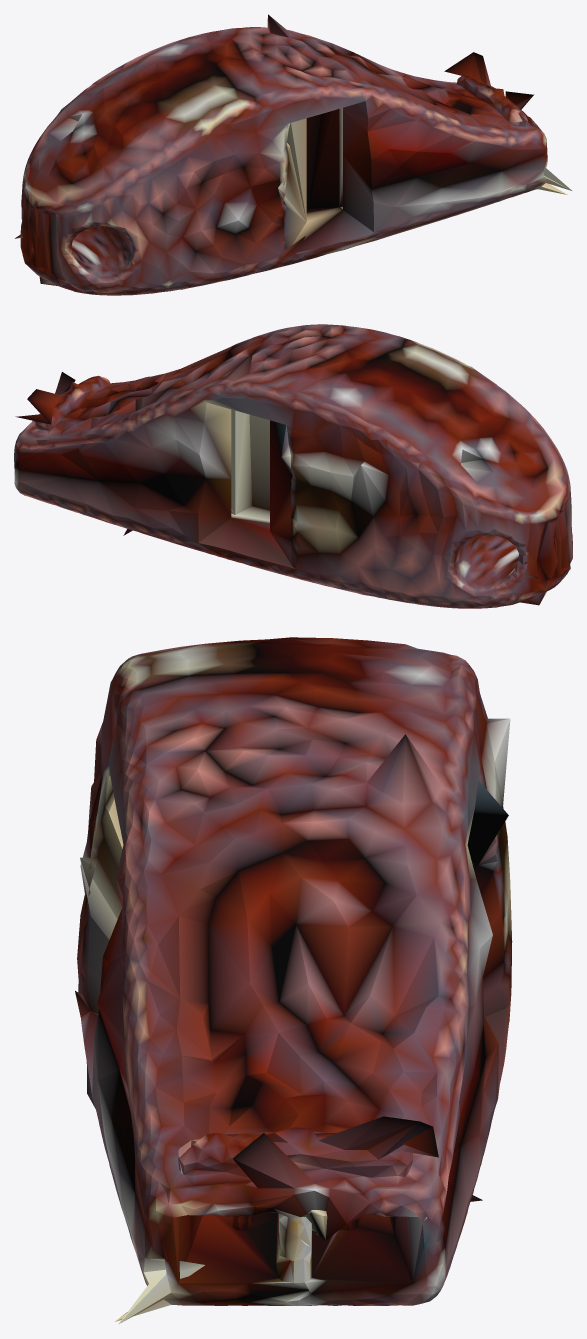
Rendered from whistle_decemeted_final1000.obj.
The picture shows the model from 3 angles, top to bottom: view 1: azimuth 30°, elevation 25°; view 2: azimuth 150°, elevation 25°; view 3: azimuth 270°, elevation 25°; orthographic projection. The views are drawn at different scales.
Size of the model in its own units: 1.92 by 0.7144 by 0.7337.
